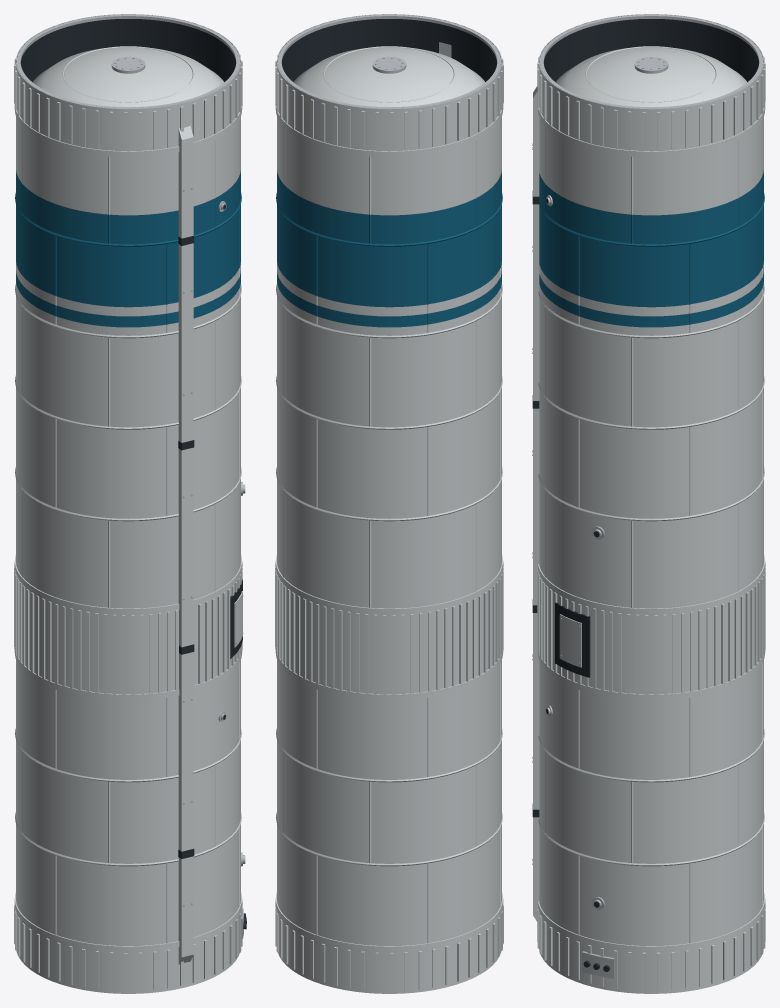
File: tank_s1_l.fbx
The picture shows the model from 3 angles, left to right: view 1: azimuth 30°, elevation 25°; view 2: azimuth 150°, elevation 25°; view 3: azimuth 270°, elevation 25°; orthographic projection.
Visible parts, largest first — view 1: tank_s1_l_LOD0; view 2: tank_s1_l_LOD0; view 3: tank_s1_l_LOD0.
Part boxes in pixels (x1,y1,x2,y2): tank_s1_l_LOD0: [14, 14, 246, 993]; tank_s1_l_LOD0: [275, 14, 503, 993]; tank_s1_l_LOD0: [532, 14, 765, 993].
Size of what is drawn, in the model's own units: 5.48 by 23.4 by 5.6.
